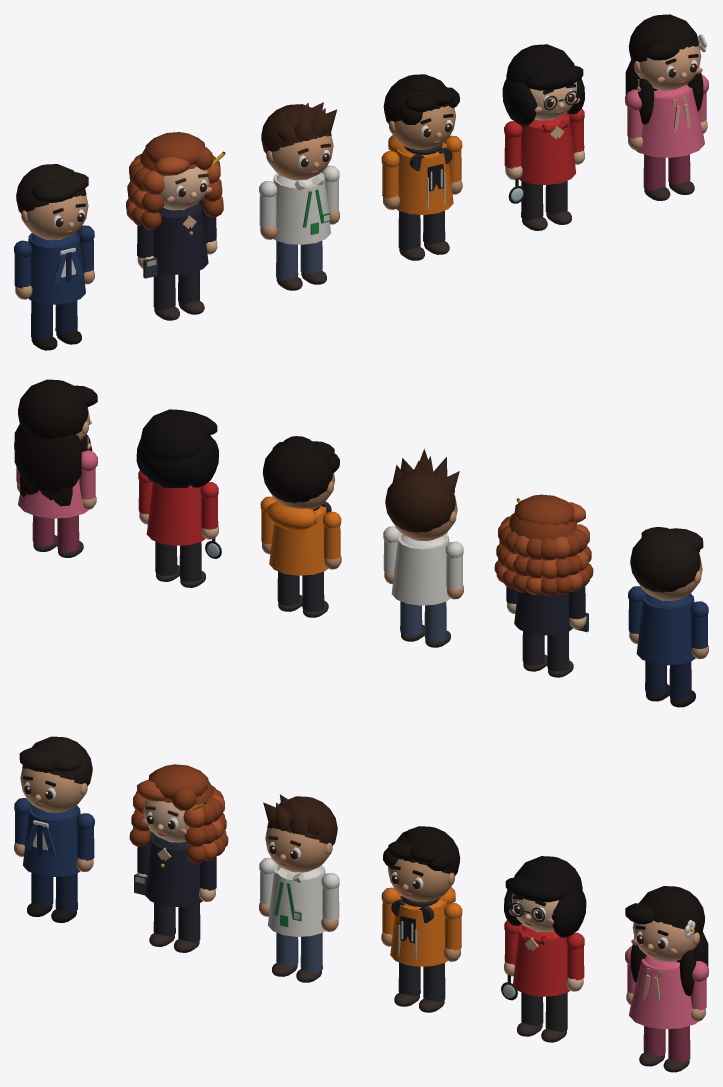
File: tokoh.glb
The picture shows the model from 3 angles, top to bottom: view 1: azimuth 30°, elevation 25°; view 2: azimuth 150°, elevation 25°; view 3: azimuth 330°, elevation 25°; orthographic projection.
Parts seen in each view (by area): view 1: kokom_kepala, ayu_kepala, neneng_kepala, ujang_kepala, joko_kepala, pak-asep_kepala, joko_tubuh, ayu_tubuh, ujang_tubuh, pak-asep_tubuh, neneng_tubuh, kokom_tubuh (+22 smaller); view 2: kokom_kepala, ayu_kepala, neneng_kepala, ujang_kepala, pak-asep_kepala, joko_kepala, joko_tubuh, pak-asep_tubuh, ujang_tubuh, neneng_tubuh, kokom_tubuh, ayu_tubuh (+22 smaller); view 3: kokom_kepala, ayu_kepala, neneng_kepala, ujang_kepala, joko_kepala, pak-asep_kepala, joko_tubuh, ayu_tubuh, ujang_tubuh, pak-asep_tubuh, neneng_tubuh, kokom_tubuh (+23 smaller).
Part boxes in pixels (bbox=[...]): kokom_kepala: bbox=[126, 132, 225, 229]; ayu_kepala: bbox=[625, 14, 706, 124]; neneng_kepala: bbox=[502, 44, 584, 125]; ujang_kepala: bbox=[261, 102, 337, 180]; joko_kepala: bbox=[383, 74, 459, 149]; pak-asep_kepala: bbox=[16, 164, 88, 240]; joko_tubuh: bbox=[388, 135, 453, 214]; ayu_tubuh: bbox=[635, 84, 704, 157]; ujang_tubuh: bbox=[273, 172, 330, 244]; pak-asep_tubuh: bbox=[28, 232, 85, 304]; neneng_tubuh: bbox=[519, 113, 576, 184]; kokom_tubuh: bbox=[154, 202, 208, 274]; kokom_kepala: bbox=[494, 494, 593, 595]; ayu_kepala: bbox=[14, 379, 97, 517]; neneng_kepala: bbox=[136, 409, 218, 488]; ujang_kepala: bbox=[385, 449, 459, 541]; pak-asep_kepala: bbox=[630, 527, 703, 600]; joko_kepala: bbox=[262, 436, 339, 509]; joko_tubuh: bbox=[267, 501, 331, 575]; pak-asep_tubuh: bbox=[636, 593, 695, 665]; ujang_tubuh: bbox=[391, 532, 450, 605]; neneng_tubuh: bbox=[146, 482, 205, 545]; kokom_tubuh: bbox=[514, 591, 573, 635]; ayu_tubuh: bbox=[18, 479, 89, 518]; kokom_kepala: bbox=[129, 764, 228, 863]; ayu_kepala: bbox=[625, 886, 708, 996]; neneng_kepala: bbox=[504, 856, 586, 937]; ujang_kepala: bbox=[263, 794, 337, 872]; joko_kepala: bbox=[383, 826, 459, 901]; pak-asep_kepala: bbox=[19, 736, 92, 812]; joko_tubuh: bbox=[390, 887, 455, 966]; ayu_tubuh: bbox=[629, 956, 698, 1029]; ujang_tubuh: bbox=[267, 864, 325, 936]; pak-asep_tubuh: bbox=[23, 805, 80, 877]; neneng_tubuh: bbox=[512, 924, 570, 996]; kokom_tubuh: bbox=[145, 835, 202, 906].
Bounding box in the file's own units: 6.21 × 1.57 × 0.6919.
